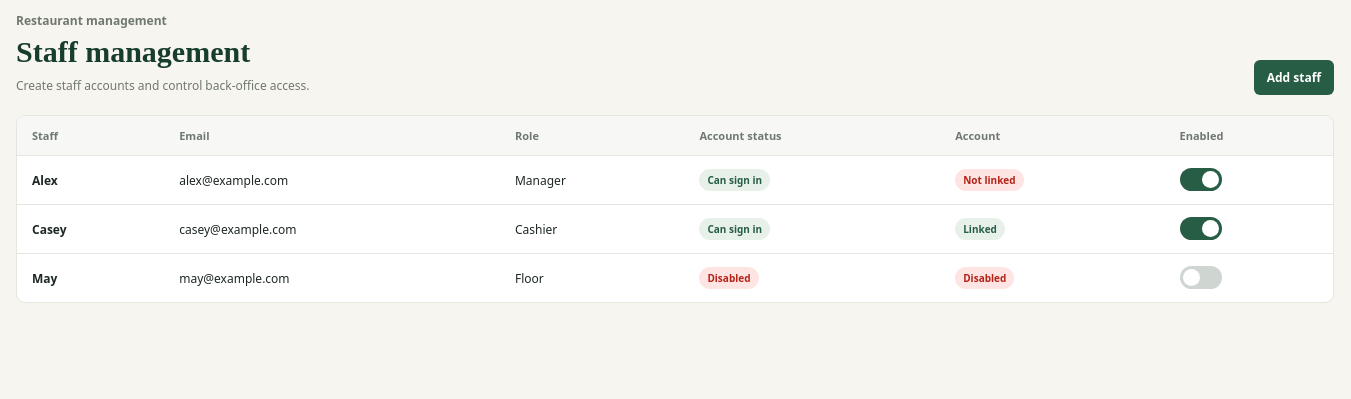
it: StaffManagement › creates a Supabase staff account
Click the button "Add staff" at (1294, 78), box x1=1254 y1=60 x2=1334 y2=95
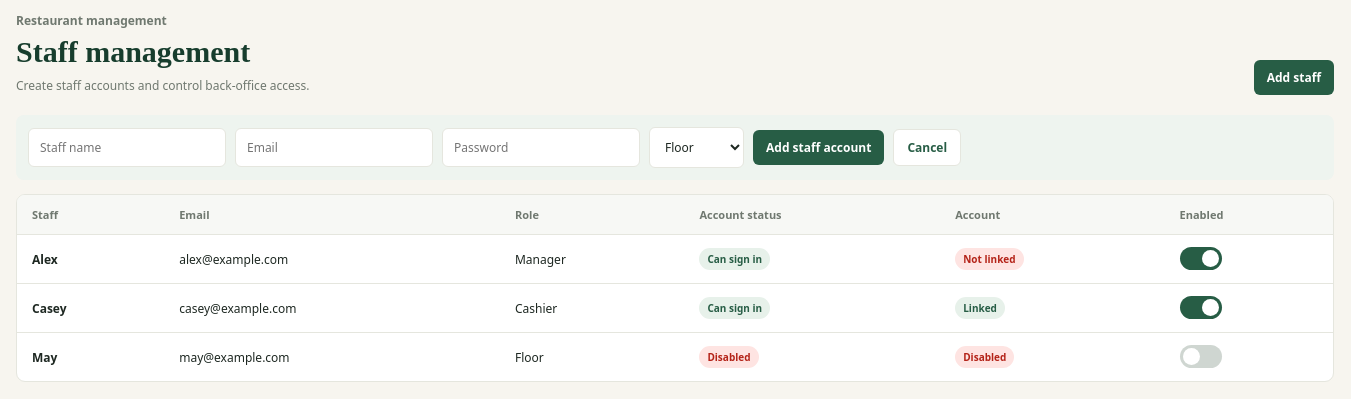
Type "Jordan" into the field labelled "Staff name" at (127, 148), box x1=28 y1=128 x2=226 y2=167
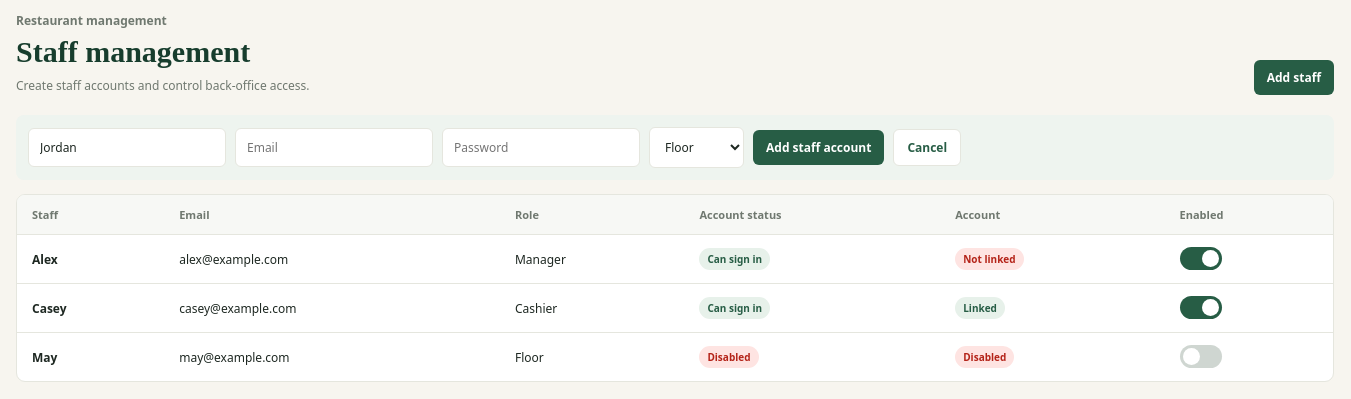
Type "jordan@example.com" into the field labelled "Email" at (334, 148), box x1=235 y1=128 x2=433 y2=167
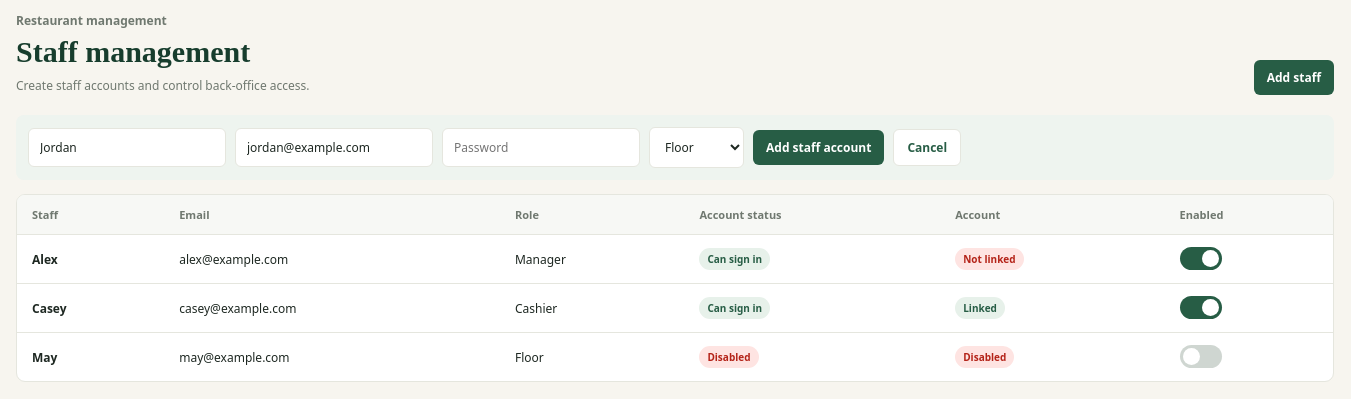
Select "Cashier" in the dropdown named "Staff role" at (696, 148), box x1=649 y1=127 x2=744 y2=168
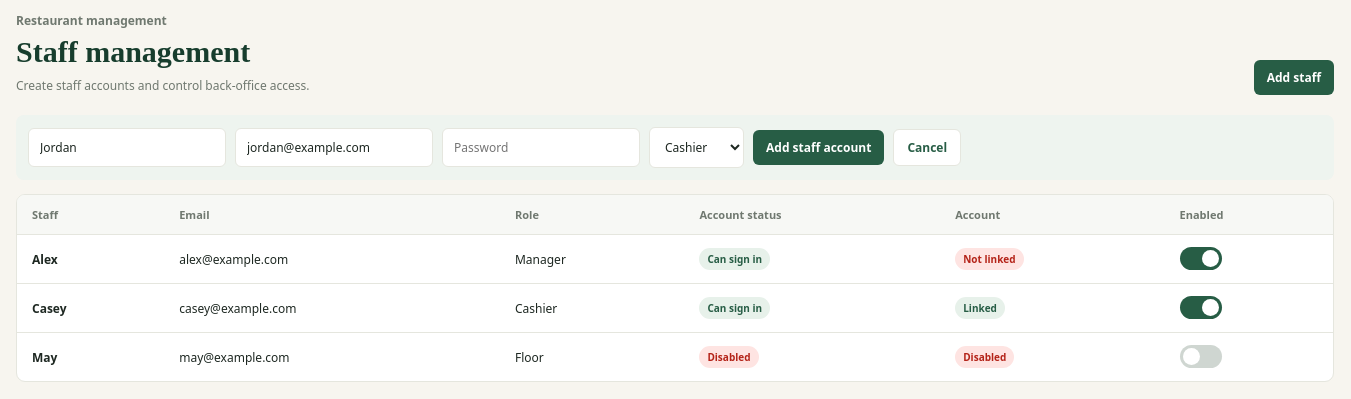
Type "staff-pass-123" into the password field labelled "Password" at (541, 148), box x1=442 y1=128 x2=640 y2=167
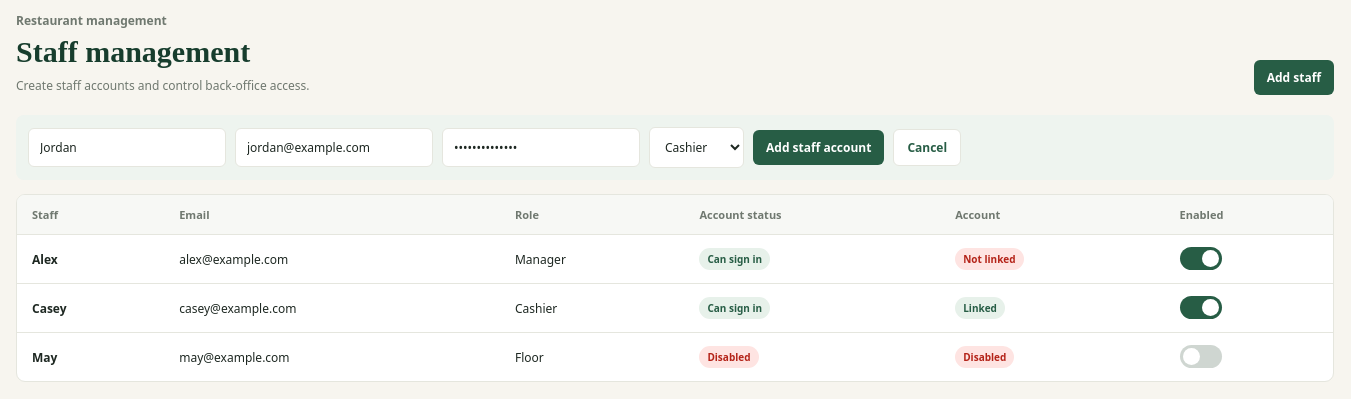
Click the button "Add staff account" at (819, 148), box x1=753 y1=130 x2=884 y2=165
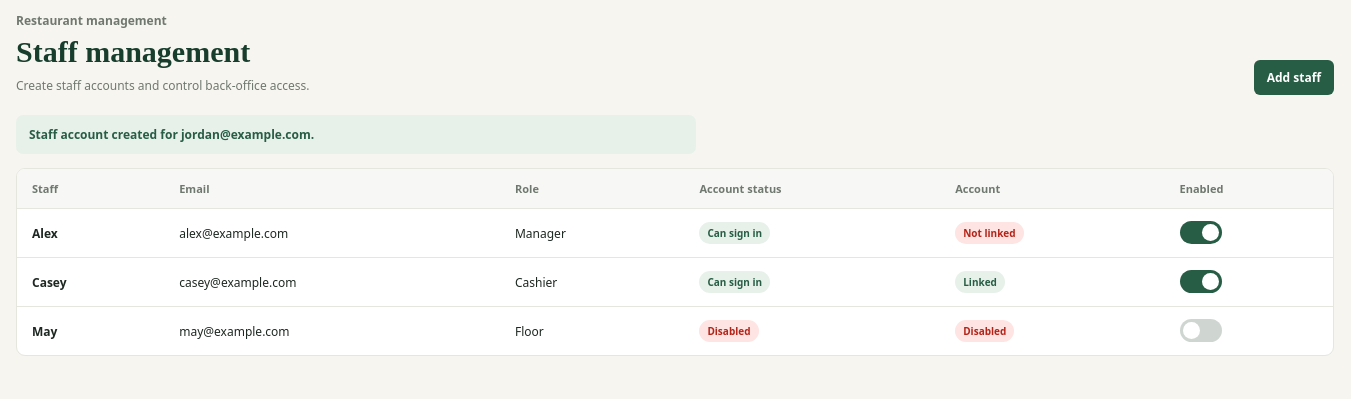
Check: the text "Staff account created for jordan@example.com." is shown, box x1=16 y1=115 x2=696 y2=154
